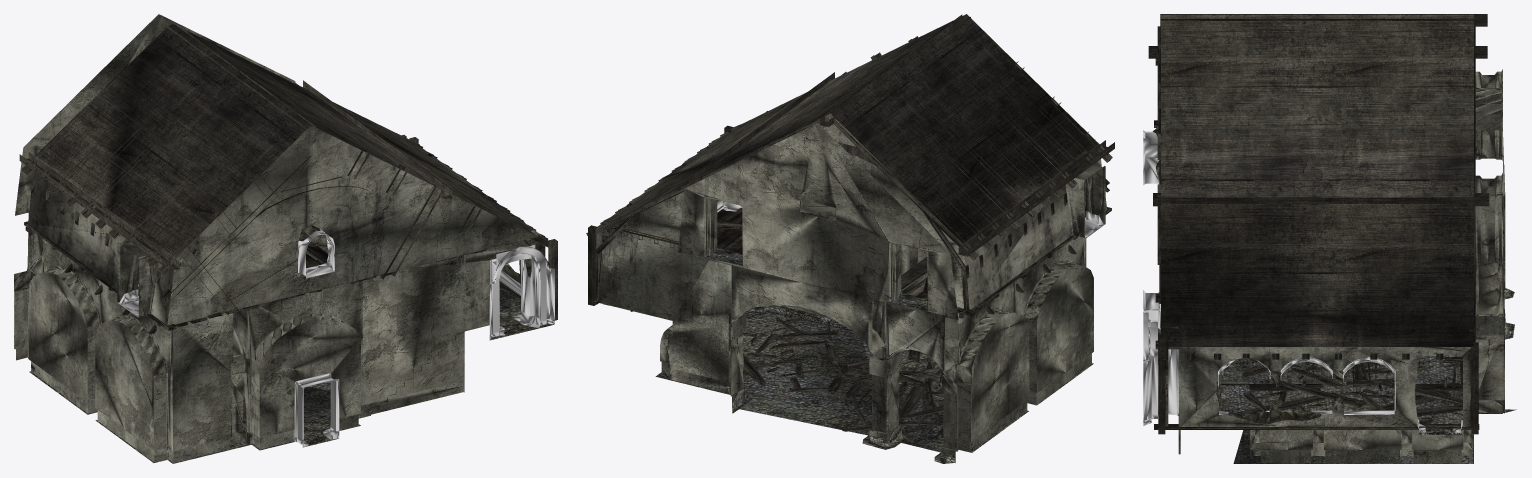
The picture shows the model from 3 angles, left to right: view 1: azimuth 30°, elevation 25°; view 2: azimuth 150°, elevation 25°; view 3: azimuth 270°, elevation 25°; orthographic projection. The views are drawn at different scales.
Visible parts, largest first — view 1: mesh3, mesh1, mesh2, mesh4, mesh6, mesh11; view 2: mesh3, mesh1, mesh4, mesh6, mesh10, mesh5; view 3: mesh1, mesh3, mesh4, mesh2, mesh0, mesh7, mesh6.
Part boxes in pixels (<box>): mesh3: <box>14,14,545,462</box>; mesh1: <box>19,19,557,334</box>; mesh2: <box>118,229,554,445</box>; mesh4: <box>29,289,553,463</box>; mesh6: <box>24,135,556,330</box>; mesh11: <box>119,270,540,446</box>; mesh3: <box>596,31,1107,462</box>; mesh1: <box>586,14,1114,442</box>; mesh4: <box>655,313,1093,452</box>; mesh6: <box>591,129,1111,318</box>; mesh10: <box>727,306,974,463</box>; mesh5: <box>704,248,927,311</box>; mesh1: <box>1148,14,1489,437</box>; mesh3: <box>1162,69,1505,463</box>; mesh4: <box>1221,356,1502,463</box>; mesh2: <box>1143,130,1395,425</box>; mesh0: <box>1236,381,1462,423</box>; mesh7: <box>1152,126,1343,423</box>; mesh6: <box>1154,120,1479,429</box>.
Bounding box in the file's own units: 15 × 11.06 × 10.64.
